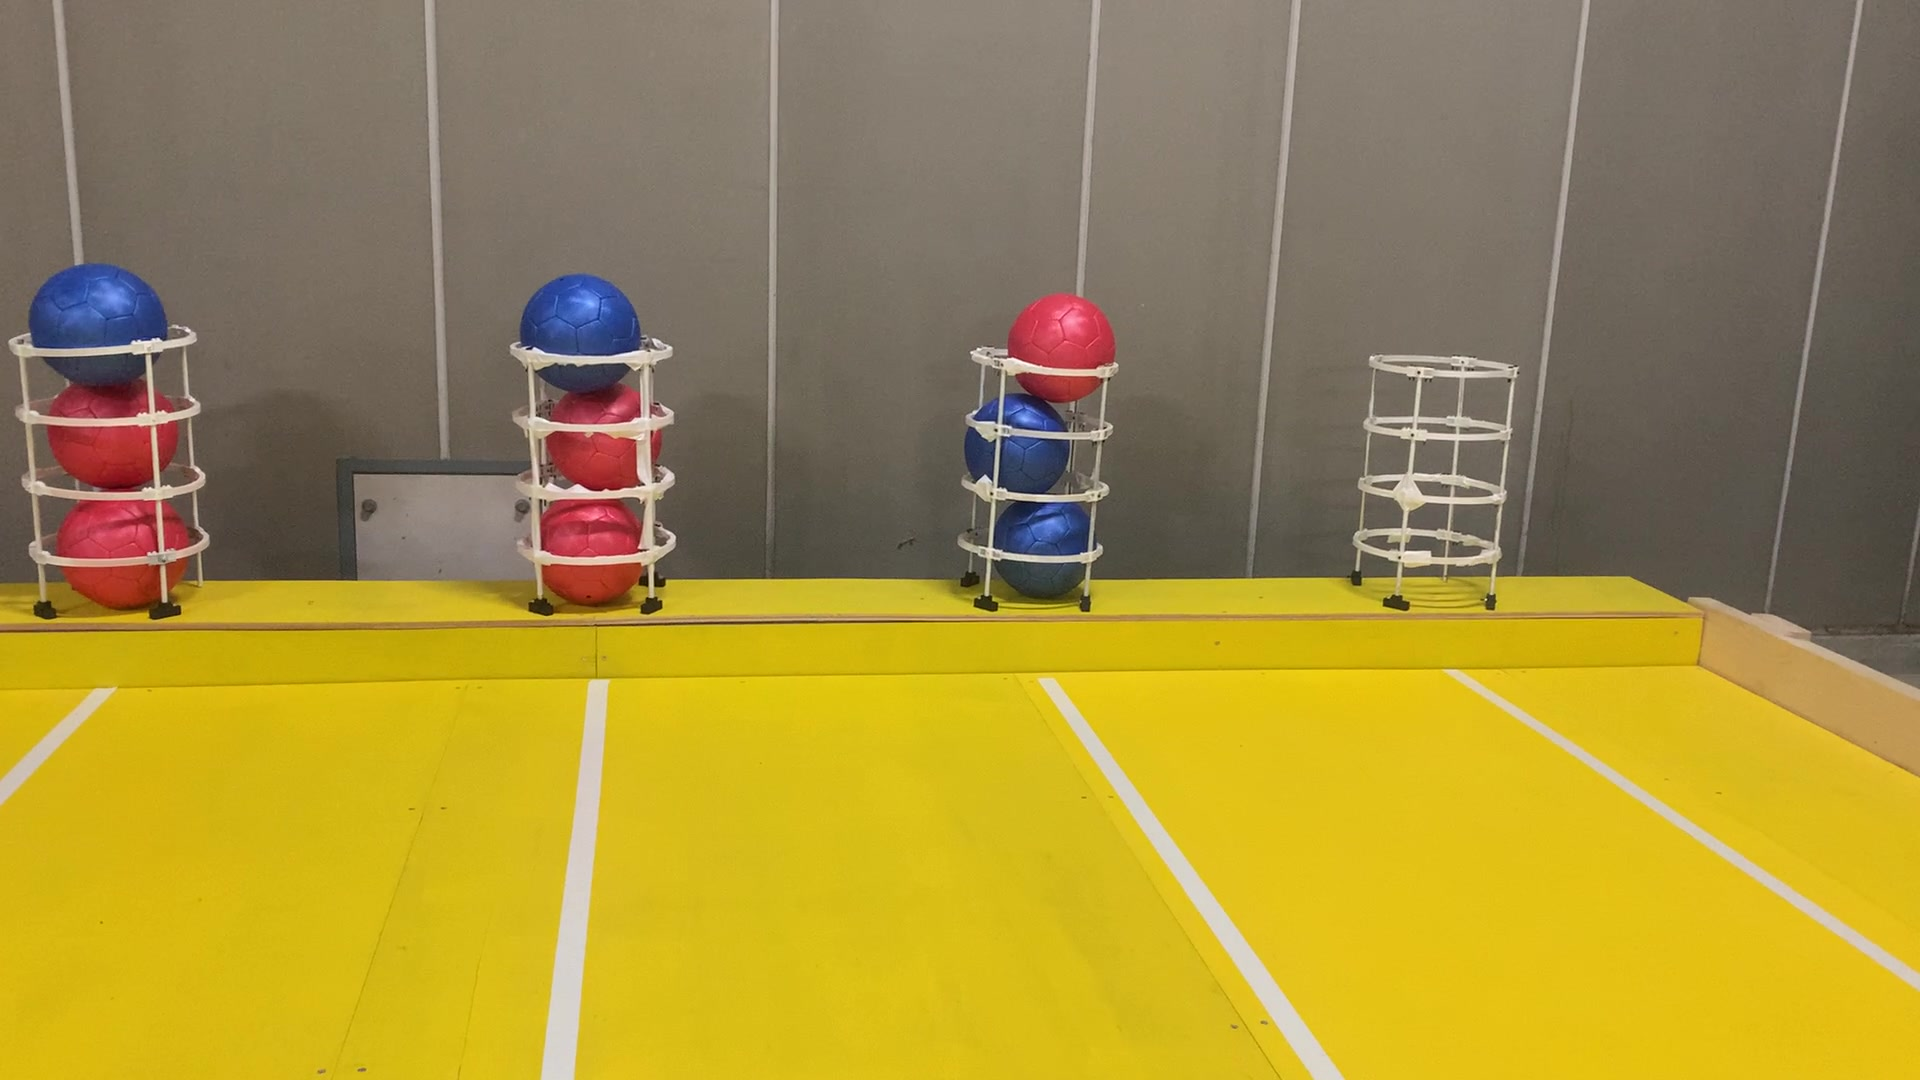blue: (34, 252, 169, 389), (517, 270, 641, 398), (963, 389, 1072, 493), (989, 498, 1098, 603)
red: (57, 483, 195, 603), (44, 376, 175, 484), (534, 389, 666, 496), (1007, 280, 1120, 401), (534, 501, 646, 599)
